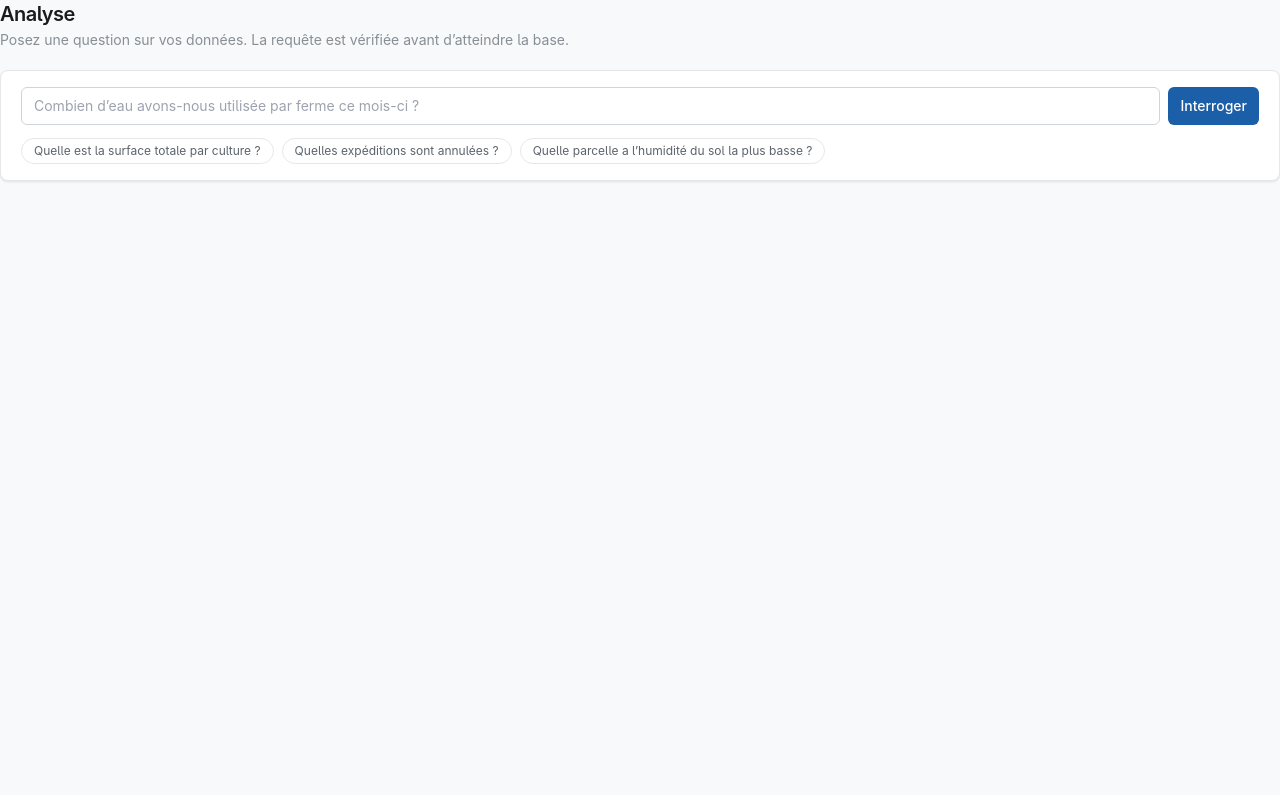
Test: la trace des tentatives › s’ouvre d’elle-même quand il a fallu reprendre
Step 1. Click the button "Quelle est la surface totale par culture ?" → click(147, 151), box [21,138,274,164]
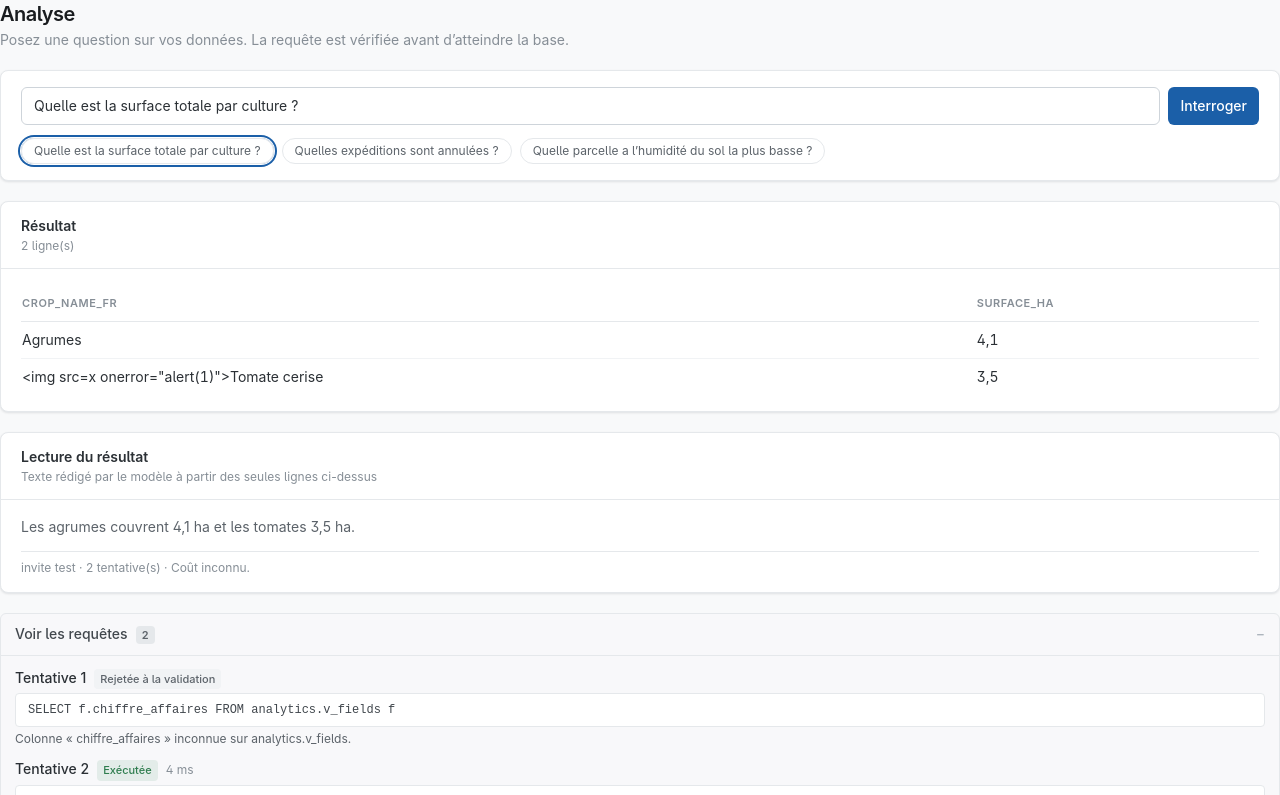
Expected: the text "Rejetée à la validation" is shown, [94,669,221,689]
